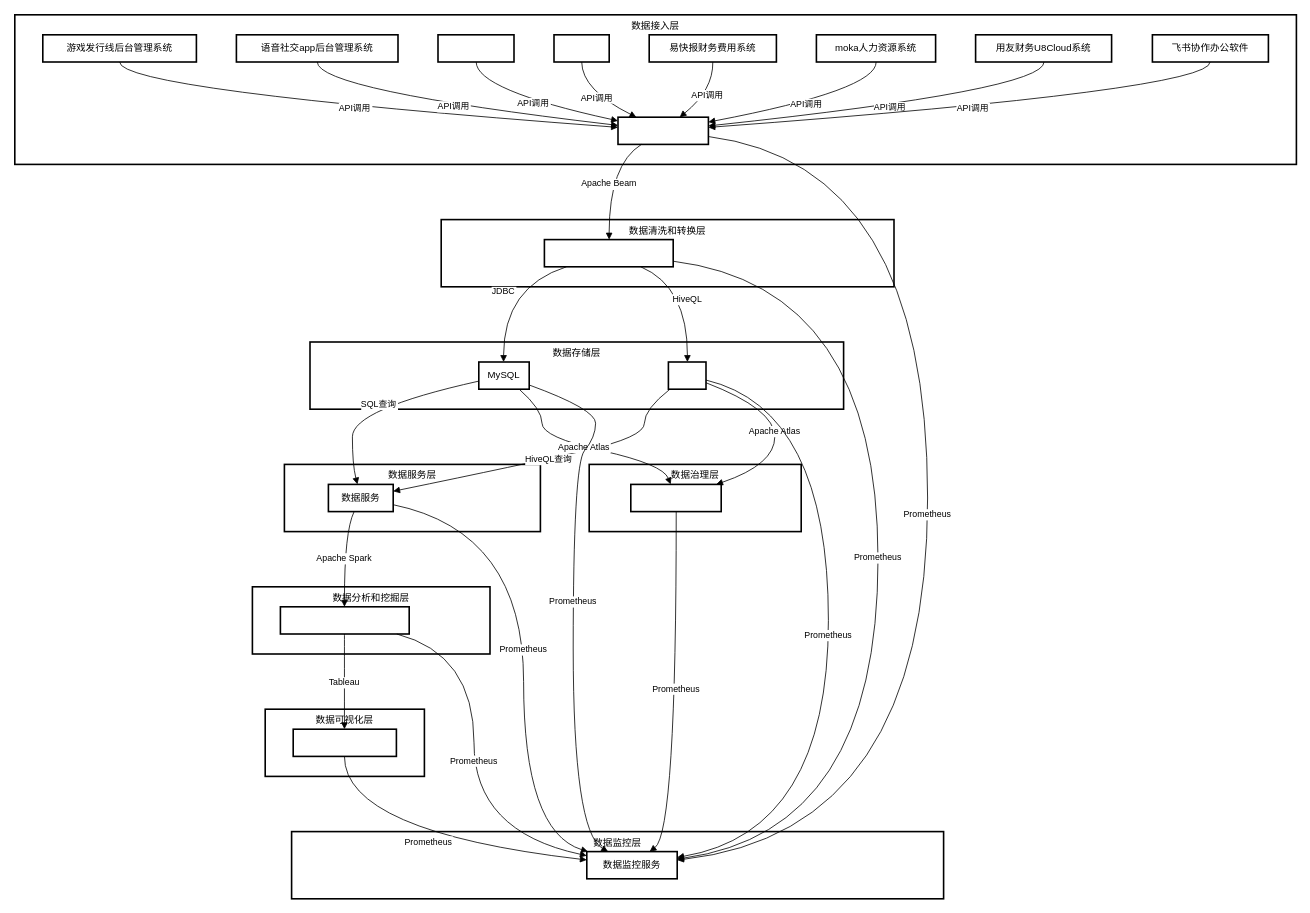
This 1310x913 diagram has some shape labels left out. Each missing label, with the centre of its shape:
Hive: the point at 686,375
数据分析和挖掘服务: the point at 344,620
数据可视化服务: the point at 344,742
数据接入服务: the point at 663,130
数据治理服务: the point at 676,497
数据清洗和转换服务: the point at 608,252
泛微OA: the point at 581,48
电竞线系统: the point at 475,48
